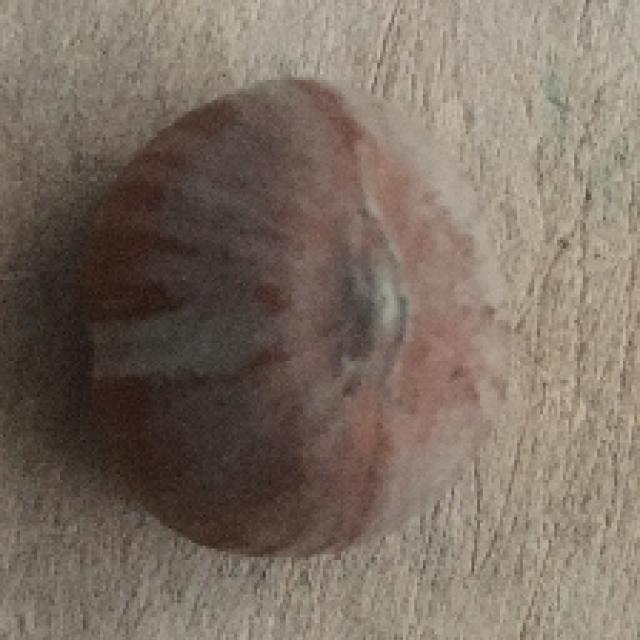qualityHazelnut: (60, 62, 512, 562)
